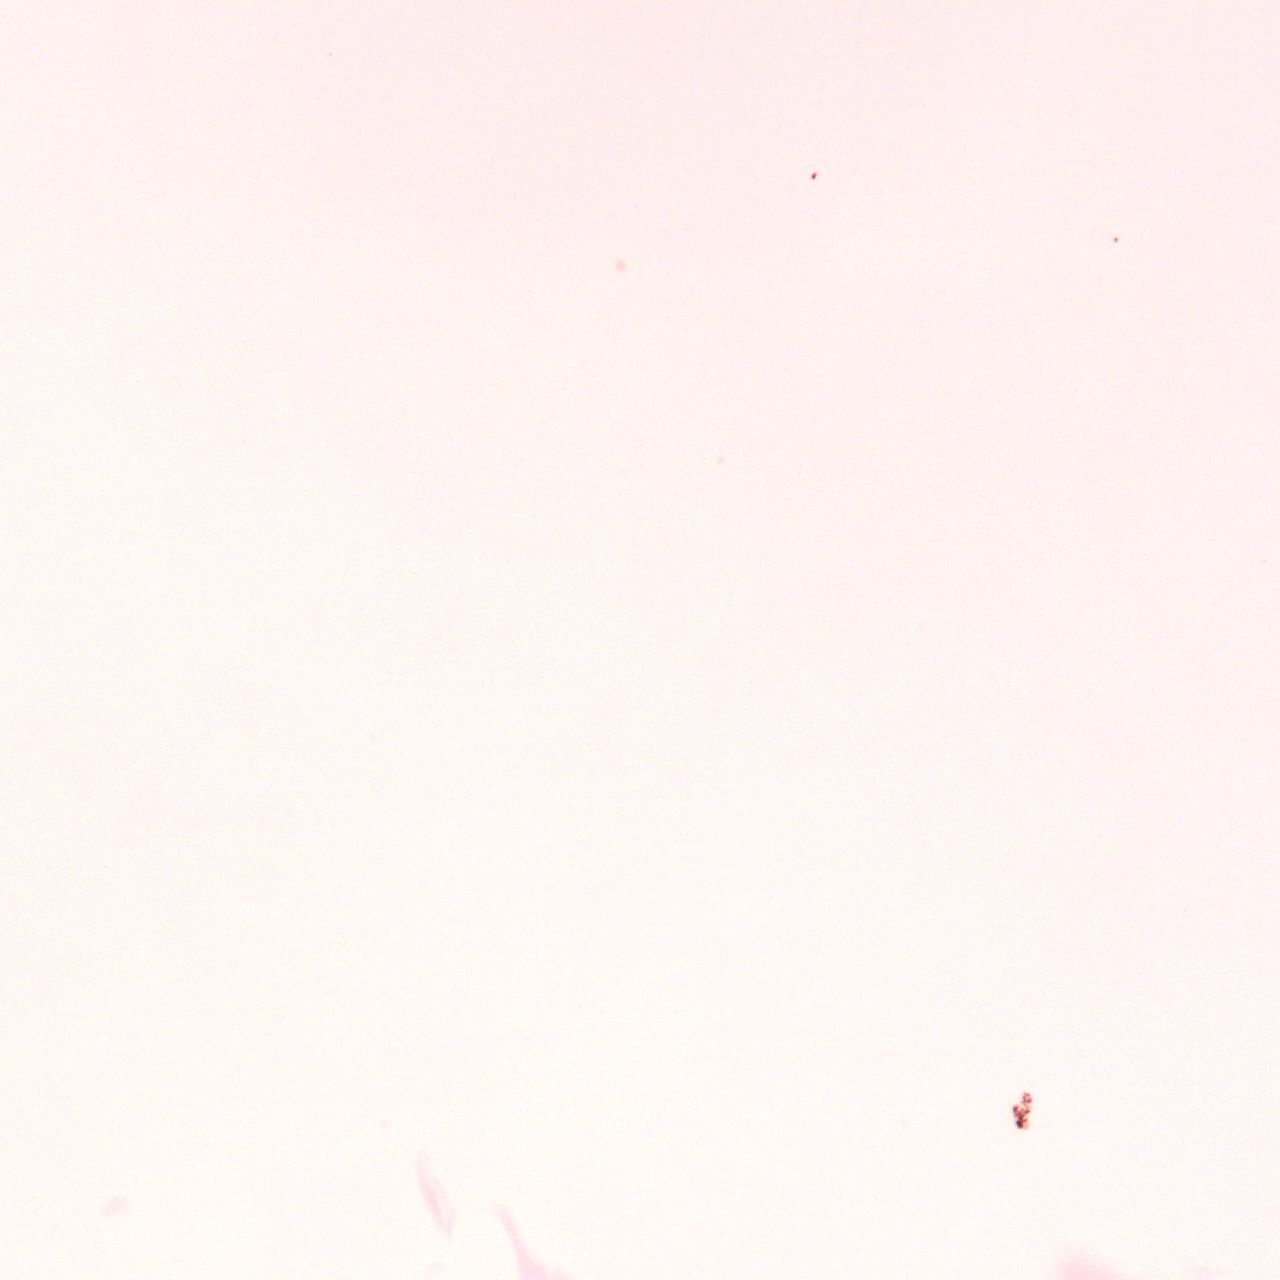dust: (1010, 1090, 1033, 1130)
